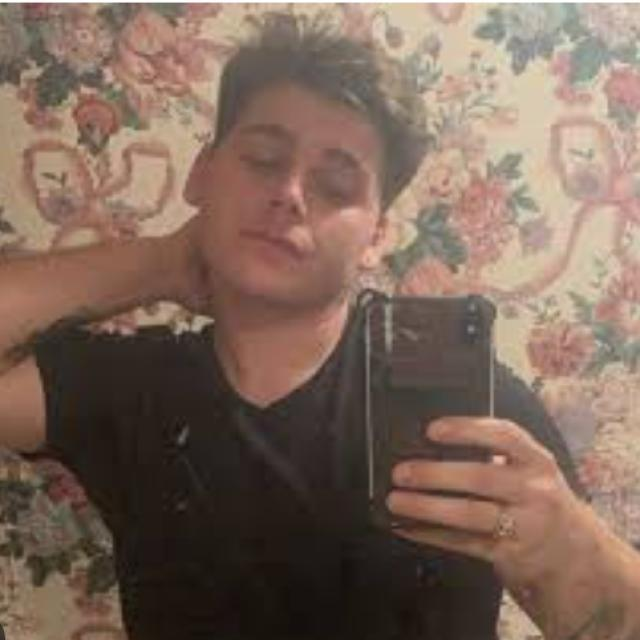face_no_mask: (191, 85, 386, 316)
